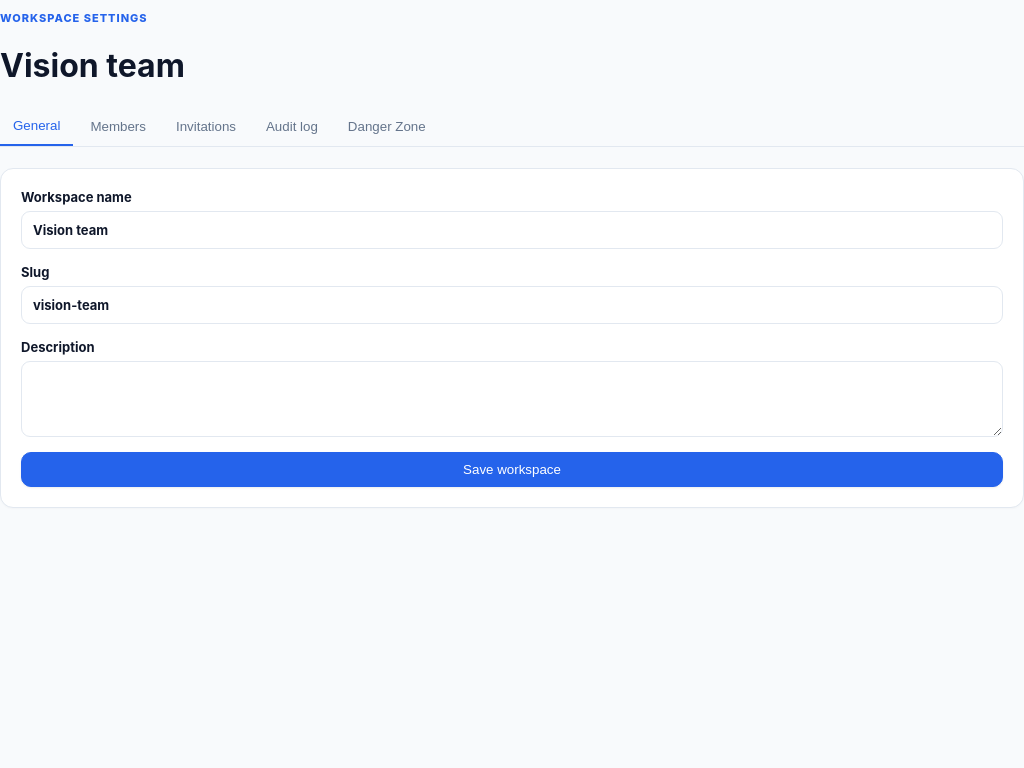
Test: invite modal sends email and role and displays dev delivery notice
Click the button "Invitations" at (206, 126), box [163,107,249,146]
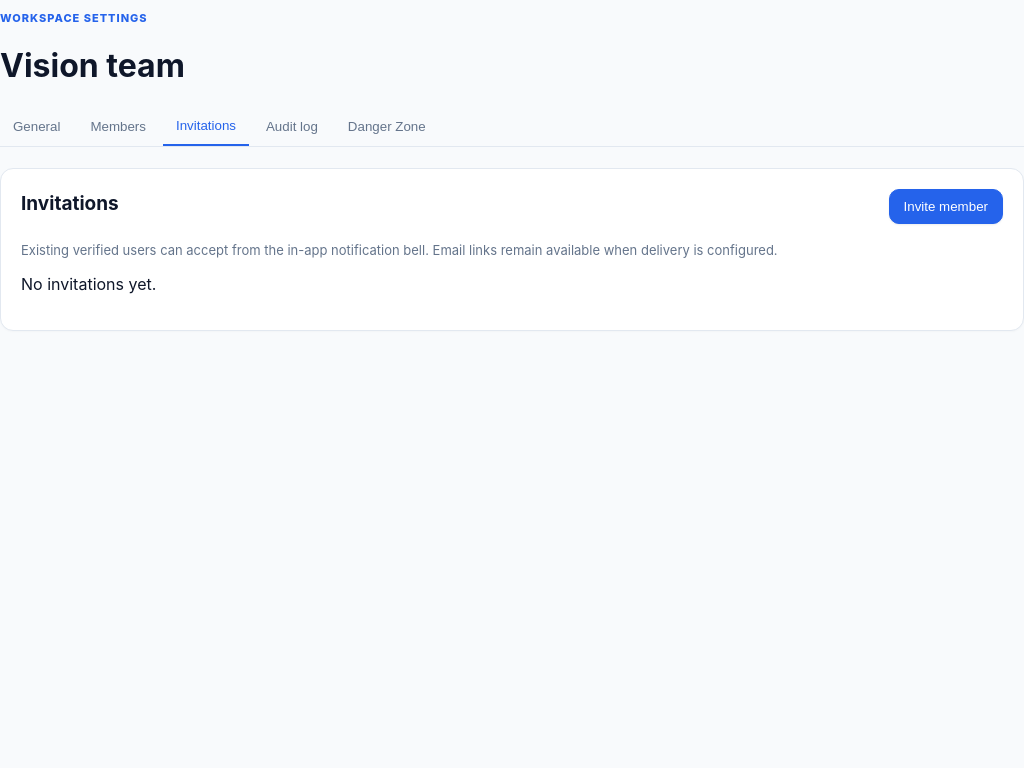
Click the button "Invite member" at (946, 206), box [888,189,1003,224]
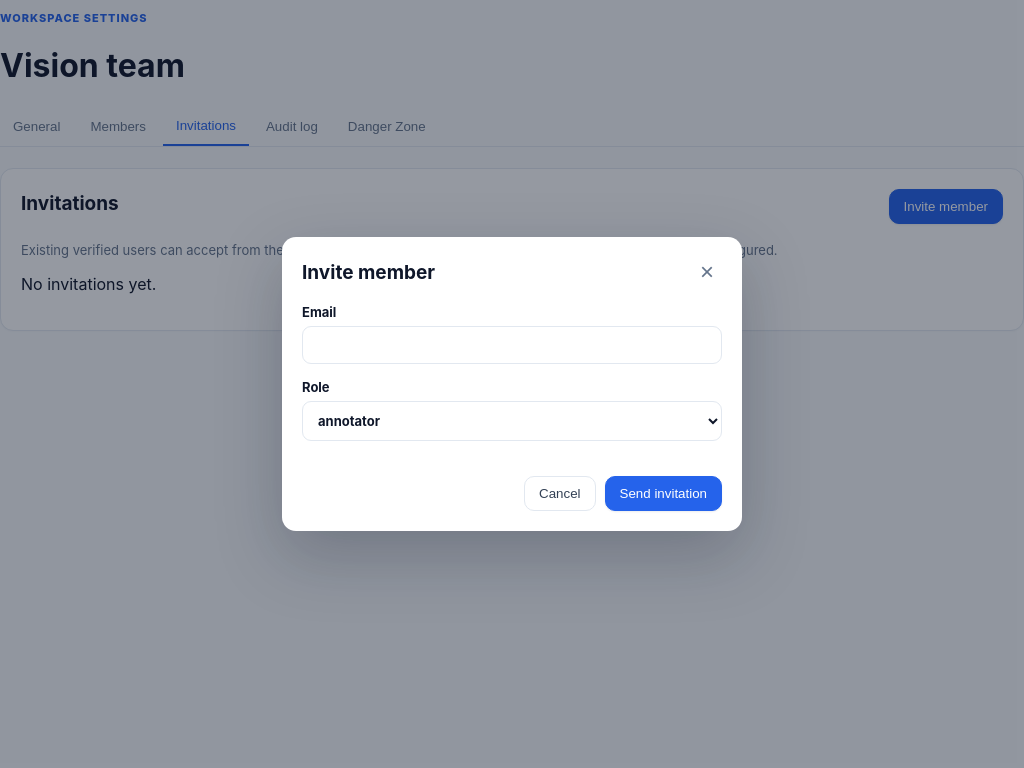
Type "new@example.com" into the field labelled "Email" at (512, 345), box [302,326,722,364]
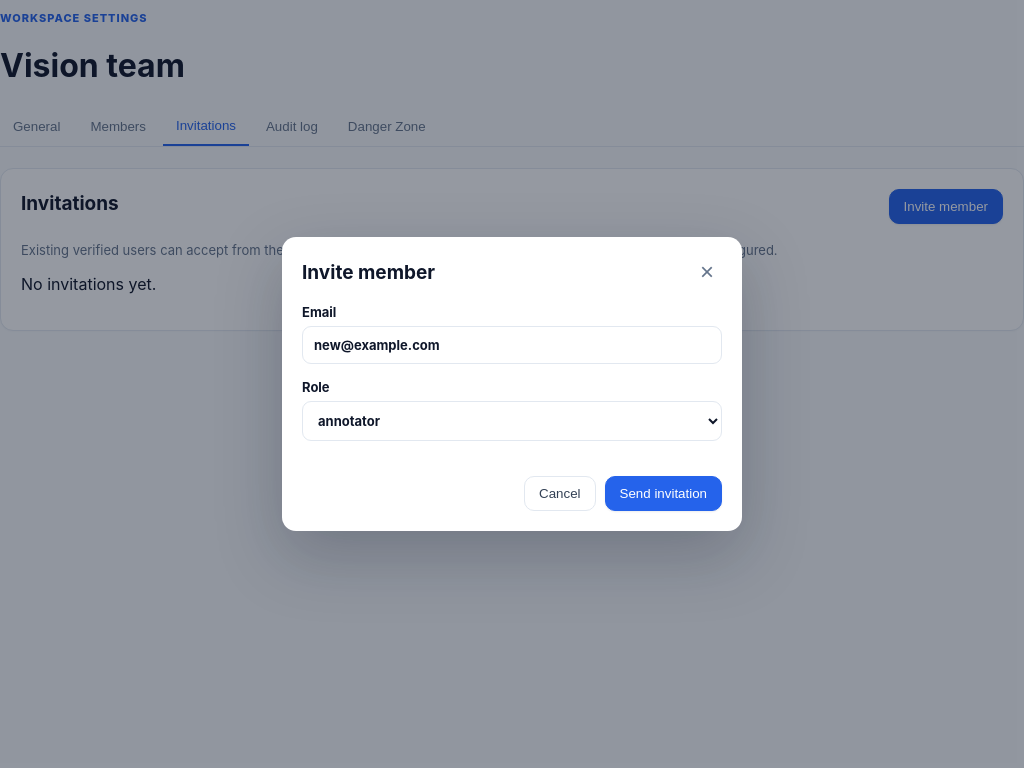
Select "viewer" in the dropdown labelled "Role" at (512, 421), box [302,401,722,441]
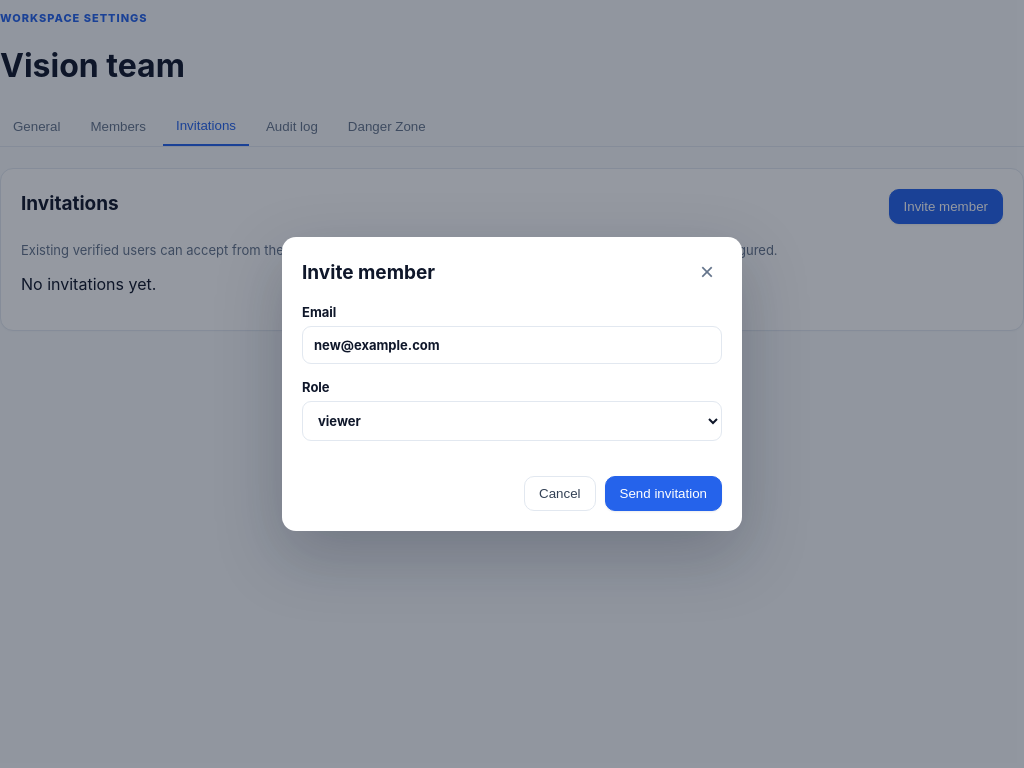
Click the button "Send invitation" at (663, 494), box [605,476,722,511]
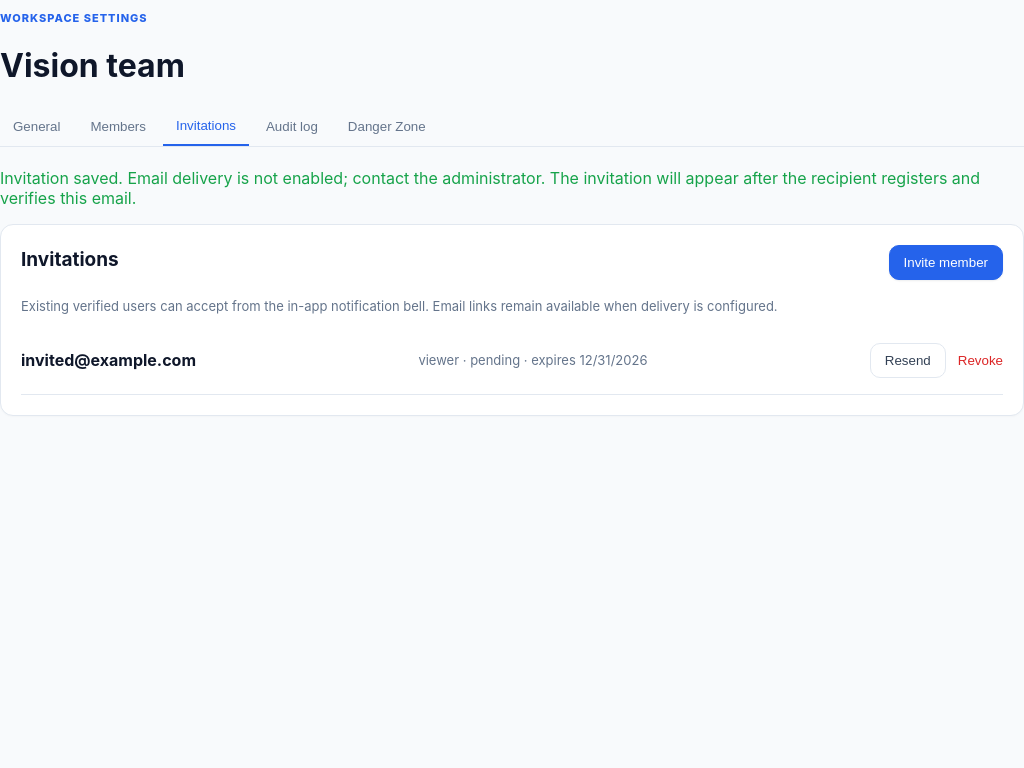
Expected: the text "Email delivery is not enabled" is shown, [0,168,980,208]
